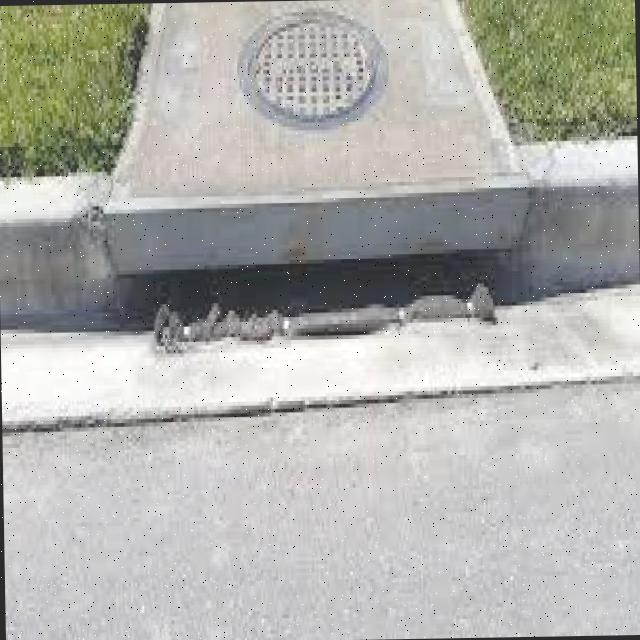curb: (10, 162, 640, 330)
